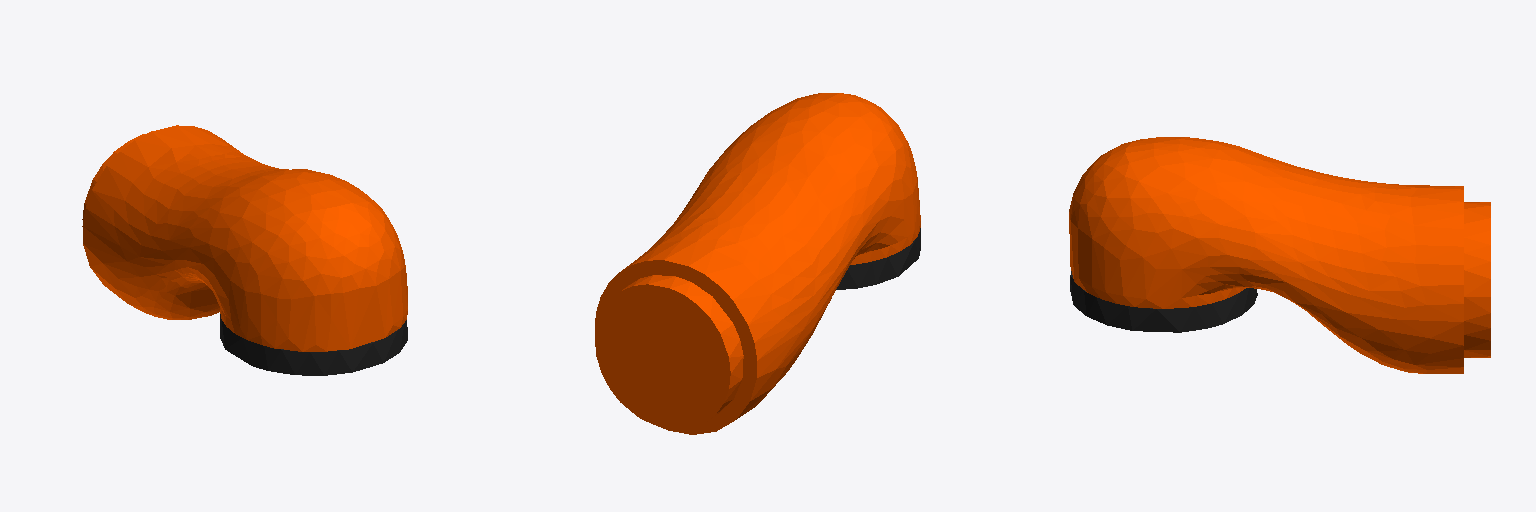
File: kuka1.obj
The picture shows the model from 3 angles: view 1: azimuth 30°, elevation 25°; view 2: azimuth 150°, elevation 25°; view 3: azimuth 270°, elevation 25°; orthographic projection.
Parts seen in each view (by area): view 1: unnamed_object1; view 2: unnamed_object1; view 3: unnamed_object1.
Boxes of the visible parts, x1=… form: unnamed_object1: x1=82, y1=125, x2=407, y2=375; unnamed_object1: x1=595, y1=93, x2=920, y2=434; unnamed_object1: x1=1069, y1=137, x2=1490, y2=373.
Size of the model in its own units: 0.1206 by 0.1537 by 0.2685.